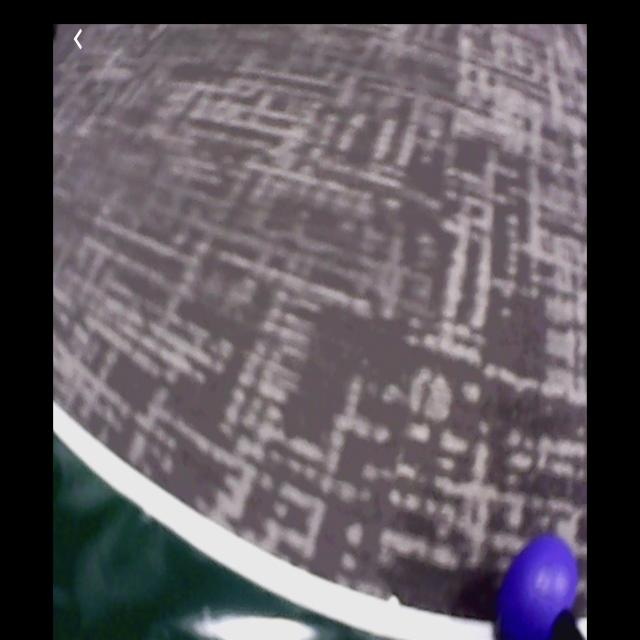ball: (494, 533, 576, 640)
